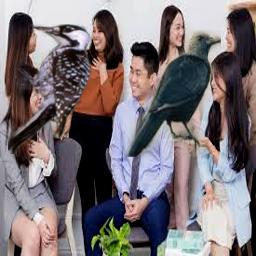Crow: (126, 30, 221, 157)
Woodpecker: (8, 24, 92, 154)
